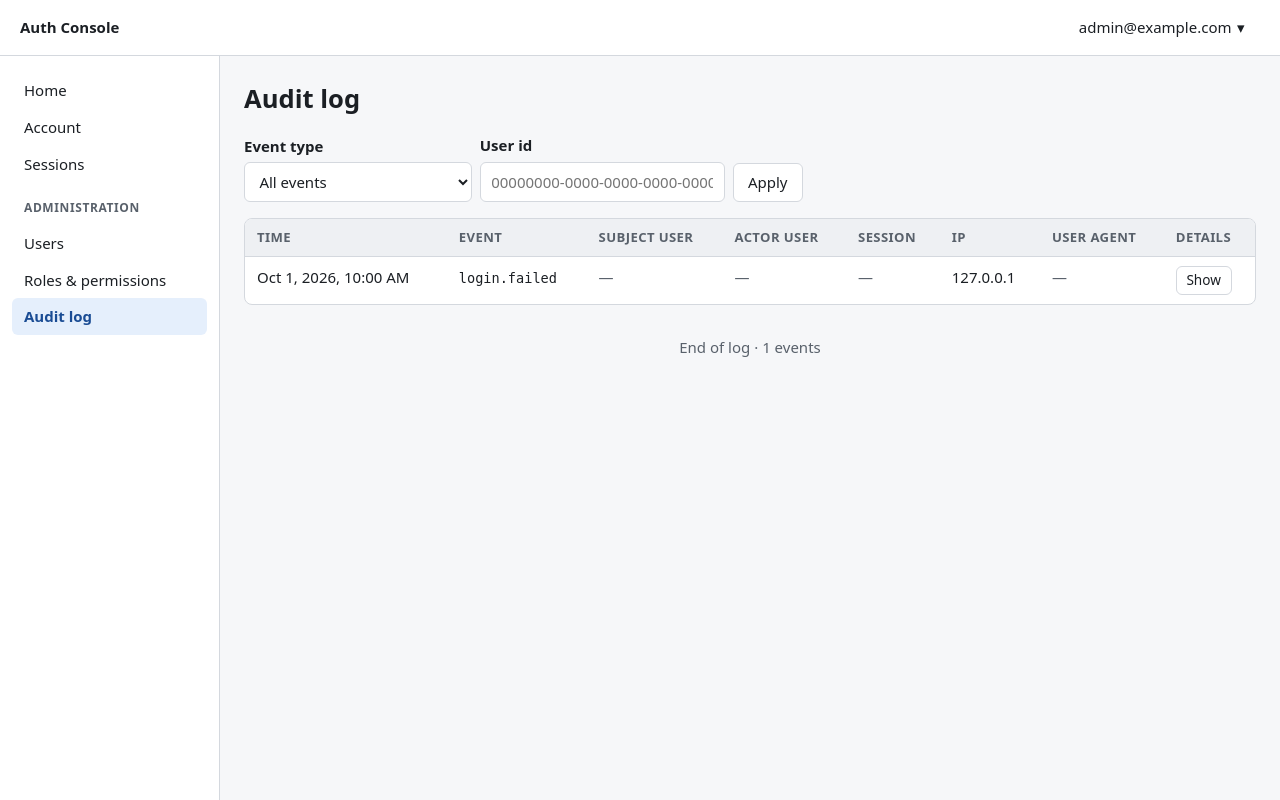
AuditPage › renders details as text, never HTML
This screenshot has width=1280, height=800.
Click the button "Show": (1204, 280) [1176,266,1232,295]
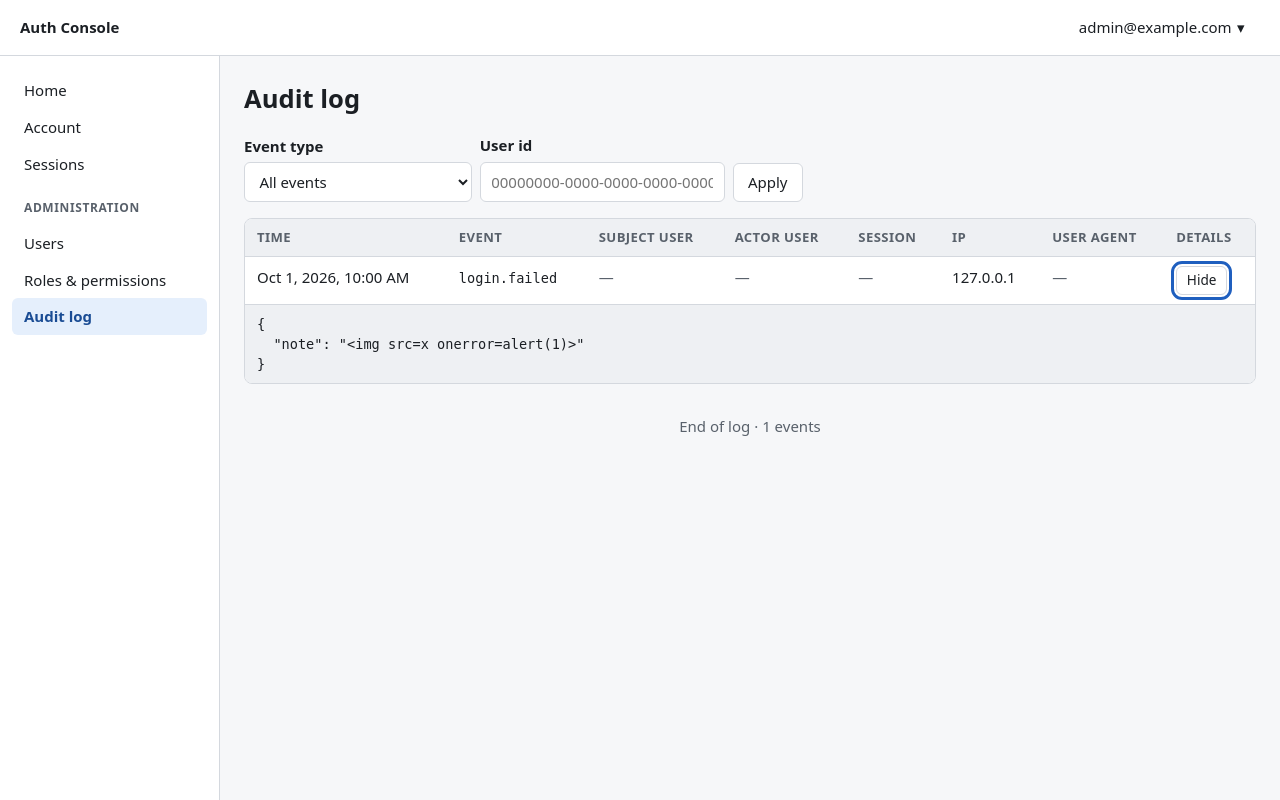
Now the text "{ \"note\": \"<img src=x onerror=alert(1)>\" }" is shown, box [257,316,584,372]
